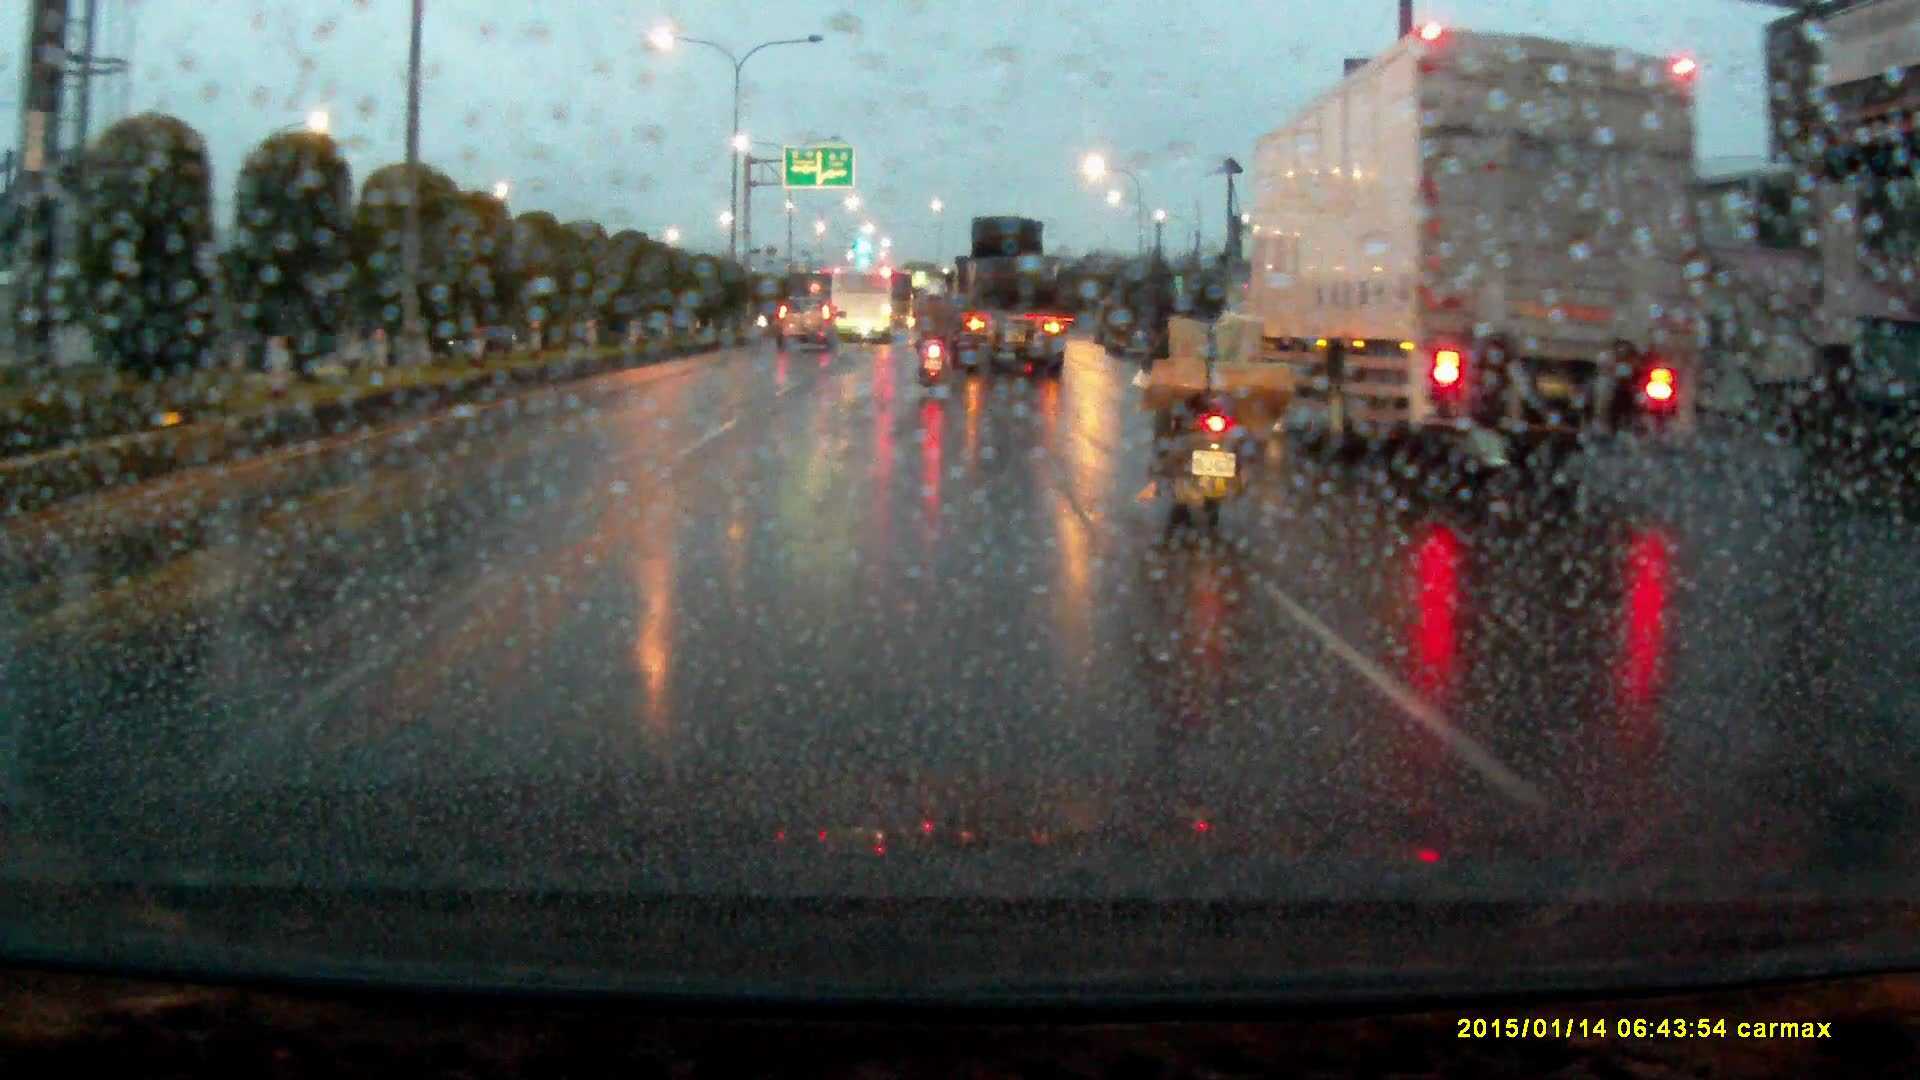rider: (1139, 253, 1297, 548), (913, 288, 955, 389)
vehicle: (1241, 29, 1705, 464), (936, 218, 1065, 377), (832, 267, 893, 342), (775, 288, 840, 349)
